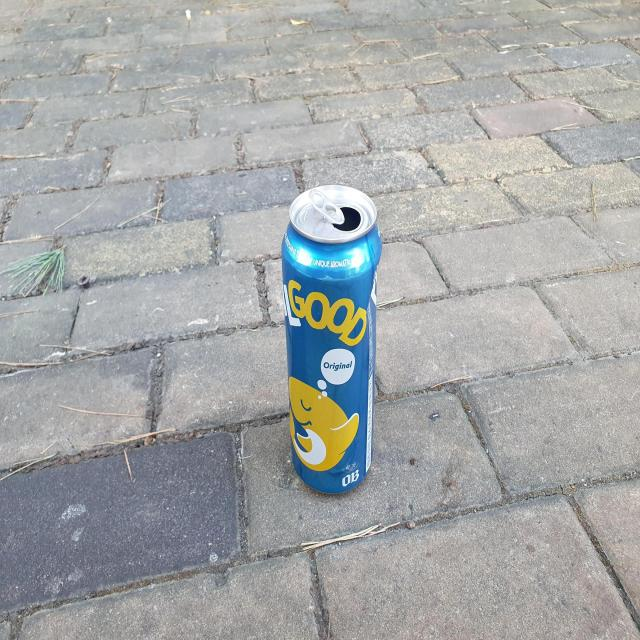can: (281, 184, 382, 494)
